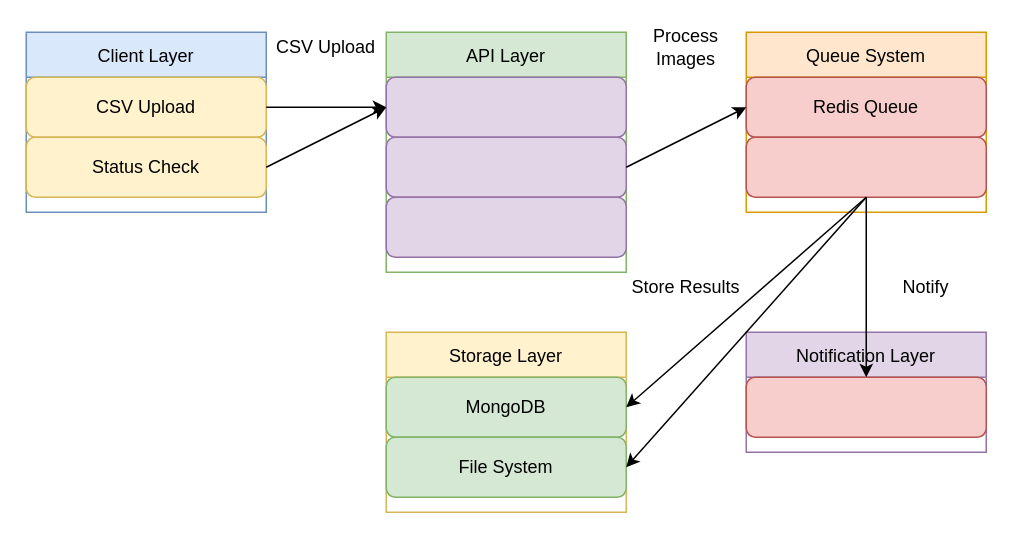
Image size: 1013x539. Some labels were removed from this diagram. Each missing label, with the centre of its shape:
"Image Processor" goes at point (865, 166).
"Processing Controller" goes at point (505, 166).
"Routes" goes at point (505, 106).
"Webhook Controller" goes at point (505, 226).
"Webhook Service" goes at point (865, 406).
